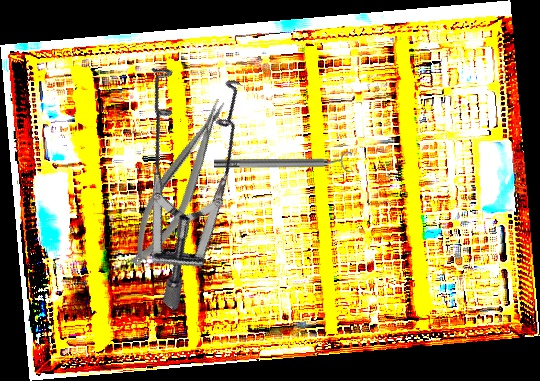Fixation Ring: (214, 151, 352, 174)
Needle Holder: (117, 94, 243, 273)
Speculum: (40, 33, 315, 312)
